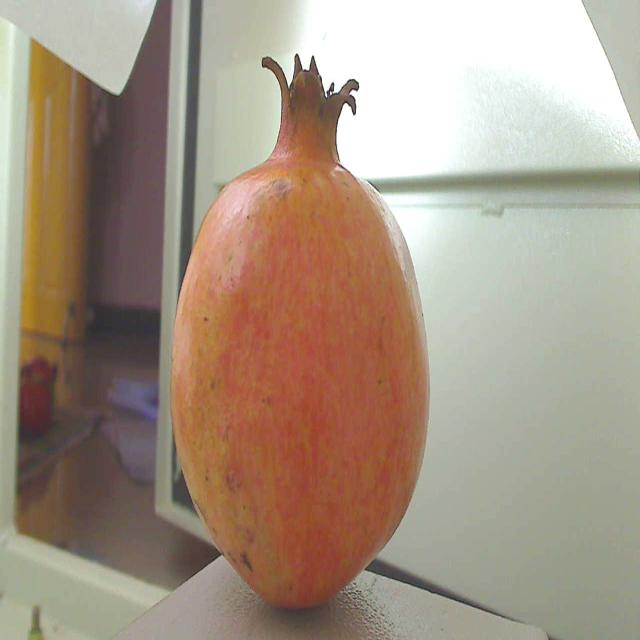pomegranate: (152, 44, 444, 640)
